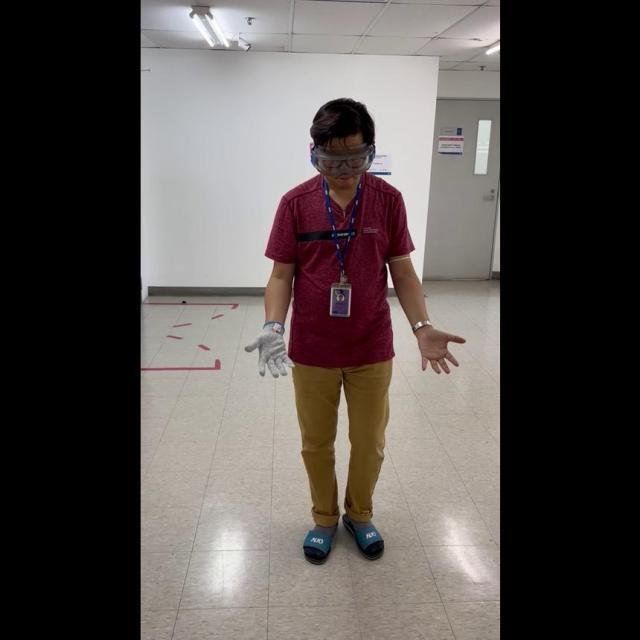bare_hand: (409, 324, 464, 375)
gloved_hand: (246, 318, 293, 379)
